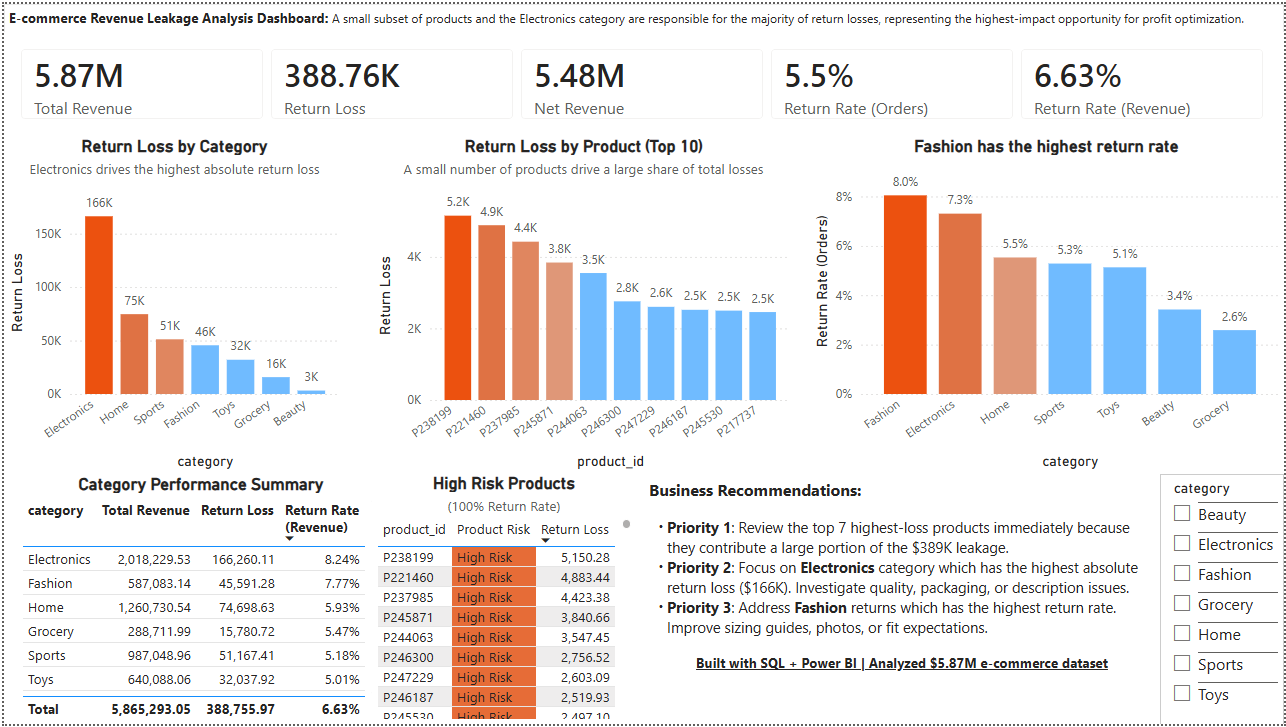

The page's visual inventory and layout, read from the dashboard file:
{"tool":"powerbi","page":{"name":"Executive Summary","canvas":[1280,720],"ordinal":0},"visuals":[{"type":"clusteredColumnChart","title":"Return Loss by Category","fields":{"Category":["products.category"],"Y":["orders.Return Loss"]},"box":[0,131.8,340.9,337.8],"z":5000},{"type":"tableEx","title":"Category Performance Summary","fields":{"Values":["products.category","orders.Total Revenue","orders.Return Loss","orders.Return Rate"]},"box":[12.5,469.5,368.1,251],"z":6000},{"type":"clusteredColumnChart","title":"Fashion has the highest return rate","fields":{"Category":["products.category"],"Y":["orders.Return Rate (Orders)"]},"box":[805.2,131.8,474.8,337.8],"z":7000},{"type":"clusteredColumnChart","title":"Return Loss by Product (Top 10)","fields":{"Category":["products.product_id"],"Y":["orders.Return Loss"]},"box":[368.1,131.8,422.5,337.8],"z":8000},{"type":"textbox","box":[0,0,1280,93.1],"z":10000},{"type":"tableEx","title":"High Risk Products (100% Return Rate)","fields":{"Values":["products.product_id","orders.Product Risk","orders.Return Loss","orders.Return Rate"]},"box":[380.7,469.5,340.9,251],"z":11000},{"type":"slicer","fields":{"Values":["products.category"]},"box":[1155.6,469.5,124.4,251],"z":12000},{"type":"cardVisual","fields":{"Data":["orders.Total Revenue","orders.Return Loss","orders.Net Revenue","orders.Return Rate (Orders)","orders.Return Rate"]},"box":[0,28.2,1280,103.5],"z":12001},{"type":"textbox","box":[721.6,469.5,434,251],"z":12002}]}

Visuals, with their boxes in screenshot pixels (x1, y1, x2, y2), scaled from the page's 1280x720 canvas onto the 1286x727 screenshot:
"Return Loss by Category" clusteredColumnChart: rect(0, 133, 342, 474)
"Category Performance Summary" tableEx: rect(13, 474, 382, 726)
"Fashion has the highest return rate" clusteredColumnChart: rect(809, 133, 1285, 474)
"Return Loss by Product (Top 10)" clusteredColumnChart: rect(370, 133, 794, 474)
textbox: rect(0, 0, 1285, 94)
"High Risk Products (100% Return Rate)" tableEx: rect(382, 474, 725, 726)
slicer - products.category: rect(1161, 474, 1285, 726)
cardVisual - orders.Total Revenue x orders.Return Loss: rect(0, 28, 1285, 133)
textbox: rect(725, 474, 1161, 726)
